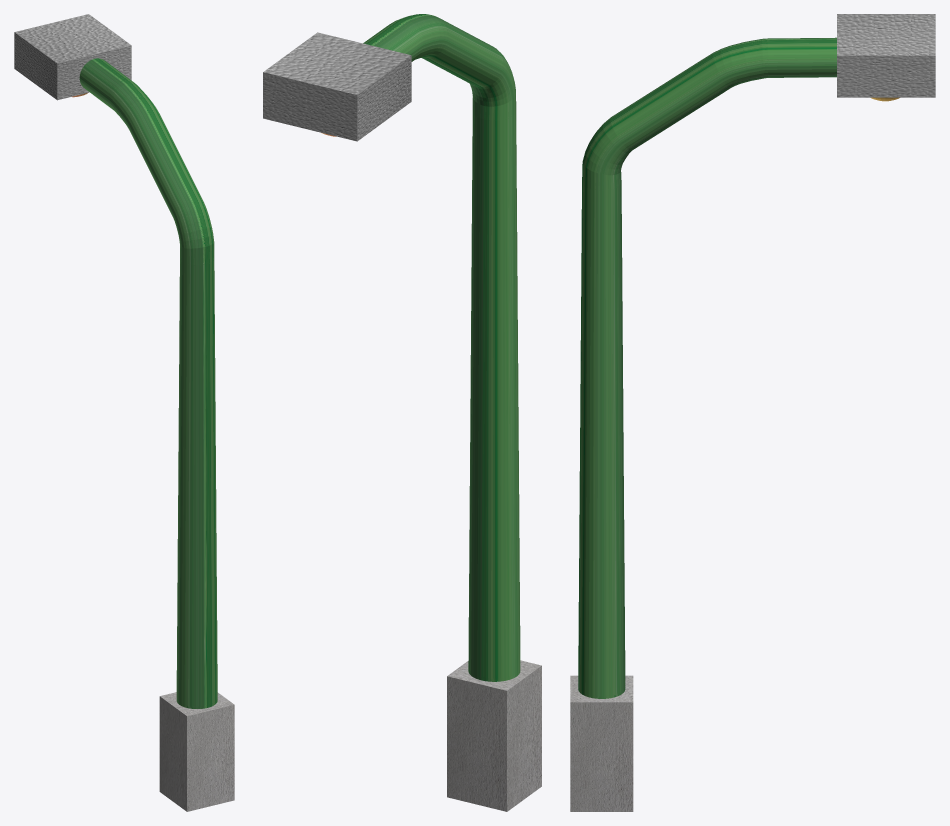
Rendered from lampara.fbx.
3 renders of one model, left to right at view 1: azimuth 30°, elevation 25°; view 2: azimuth 150°, elevation 25°; view 3: azimuth 270°, elevation 25°, orthographic. The views are drawn at different scales.
Visible parts, largest first — view 1: Cylinder, Cube, Cube.001; view 2: Cylinder, Cube, Cube.001; view 3: Cylinder, Cube.001, Cube.
Part boxes in pixels (x1=…): Cylinder: x1=79, y1=58, x2=217, y2=708; Cube: x1=159, y1=692, x2=234, y2=811; Cube.001: x1=14, y1=14, x2=131, y2=100; Cylinder: x1=363, y1=14, x2=520, y2=681; Cube: x1=447, y1=660, x2=541, y2=811; Cube.001: x1=263, y1=32, x2=411, y2=141; Cylinder: x1=578, y1=37, x2=836, y2=698; Cube.001: x1=837, y1=14, x2=935, y2=97; Cube: x1=570, y1=675, x2=633, y2=811.
Size of the model in its own units: 170 by 1453 by 630.
Materials: 4 (4 with a texture image).
